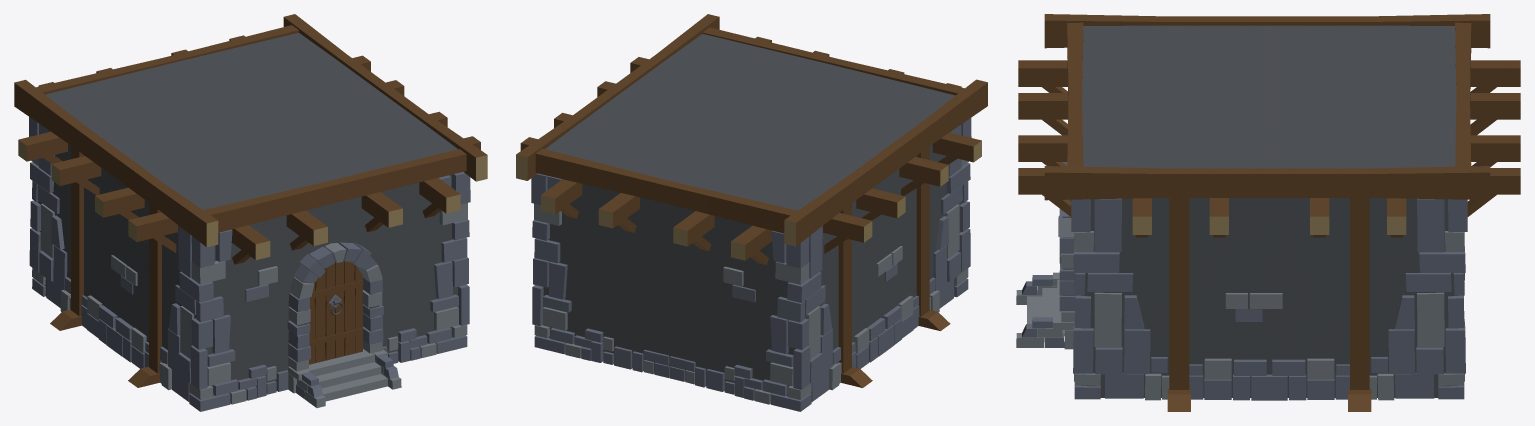
Rendered from Fantasy_House.glb.
3 renders of one model, left to right at view 1: azimuth 30°, elevation 25°; view 2: azimuth 150°, elevation 25°; view 3: azimuth 270°, elevation 25°, orthographic. The views are drawn at different scales.
Visible parts, largest first — view 1: House_4; view 2: House_4; view 3: House_4.
Part boxes in pixels (left/top/right/bottom): House_4: left=14, top=14, right=487, bottom=411; House_4: left=516, top=14, right=987, bottom=411; House_4: left=1016, top=14, right=1520, bottom=411.
Size of the model in its own units: 1.94 by 1.07 by 2.12.
1 material, 1 textured.
